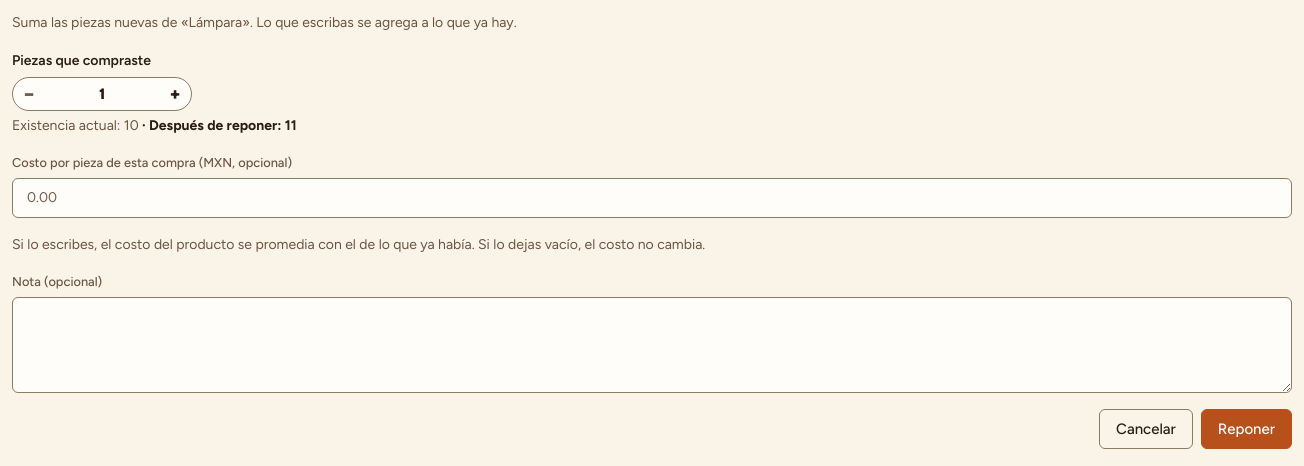
ProductRestockForm › cantidad › se puede teclear una cantidad grande
Step 1. Replace the text in the number field named "Cantidad de Lámpara" with "100" → (102, 94), box [45, 78, 159, 110]
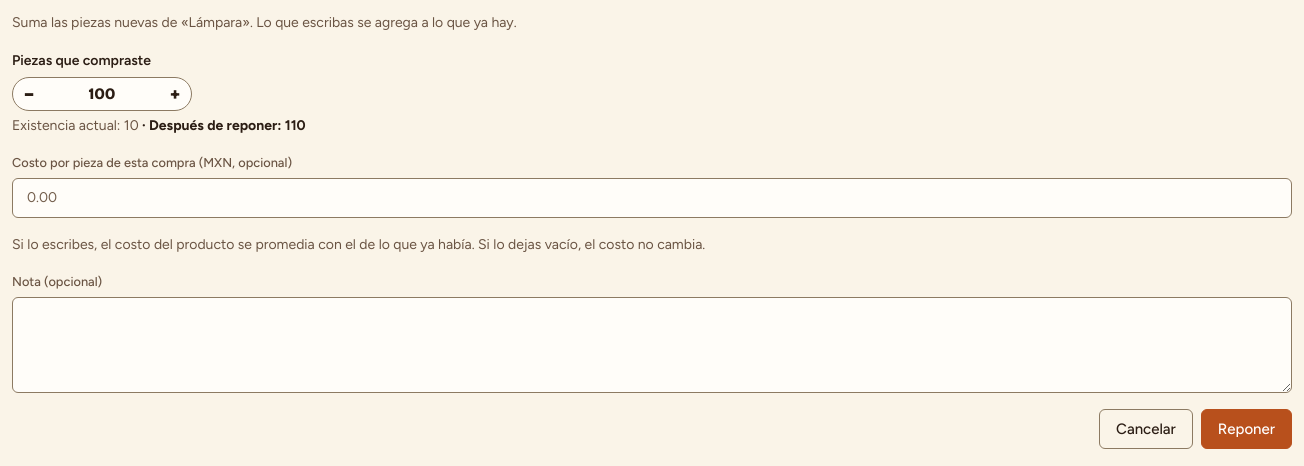
Result: the text "Después de reponer: 110" is shown at [142, 117, 306, 134]
